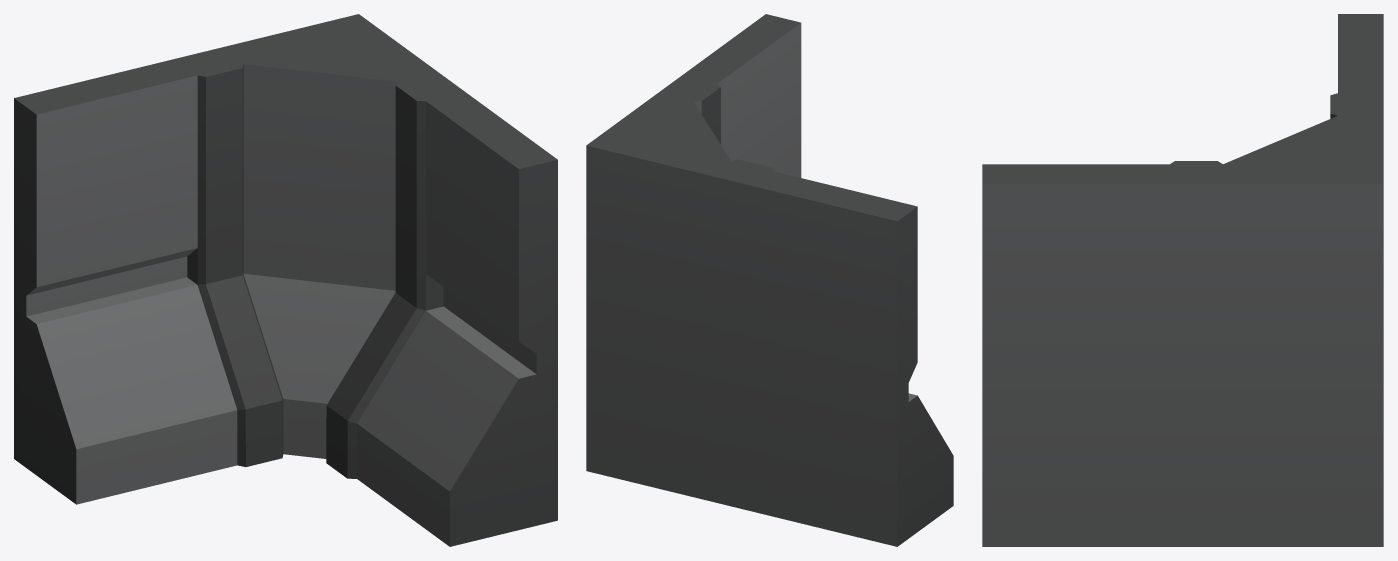
The model's file is Wall_type_B_027.fbx.
The picture shows the model from 3 angles, left to right: view 1: azimuth 30°, elevation 25°; view 2: azimuth 150°, elevation 25°; view 3: azimuth 270°, elevation 25°; orthographic projection. The views are drawn at different scales.
Parts seen in each view (by area): view 1: Wall_type_B_027; view 2: Wall_type_B_027; view 3: Wall_type_B_027.
Boxes of the visible parts, box(x1,y1,x2,y2) form: Wall_type_B_027: box(14, 14, 557, 546); Wall_type_B_027: box(586, 14, 953, 546); Wall_type_B_027: box(982, 14, 1383, 546).
Bounding box in the file's own units: 150 × 150 × 150.
